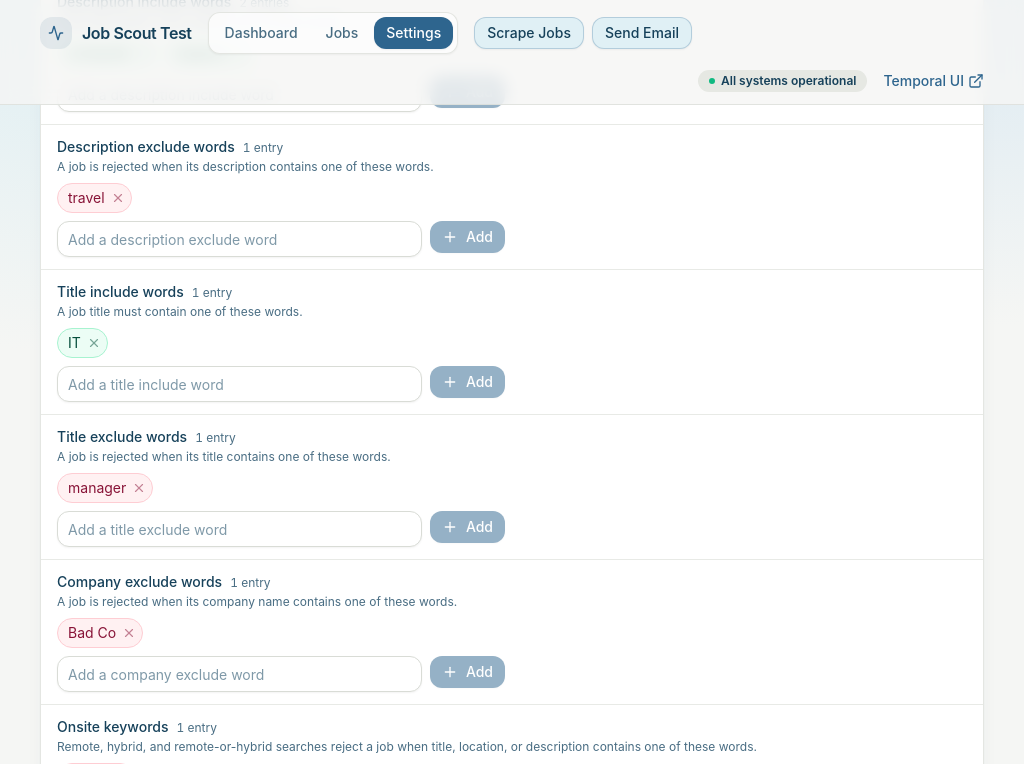
Test: operator shell › clears dirty state from echoed stored row after save
(page scrolled)
Type "  Cloud Ops  " into the field named "Add title include word". click: (239, 384)
box: [57,366,422,402]
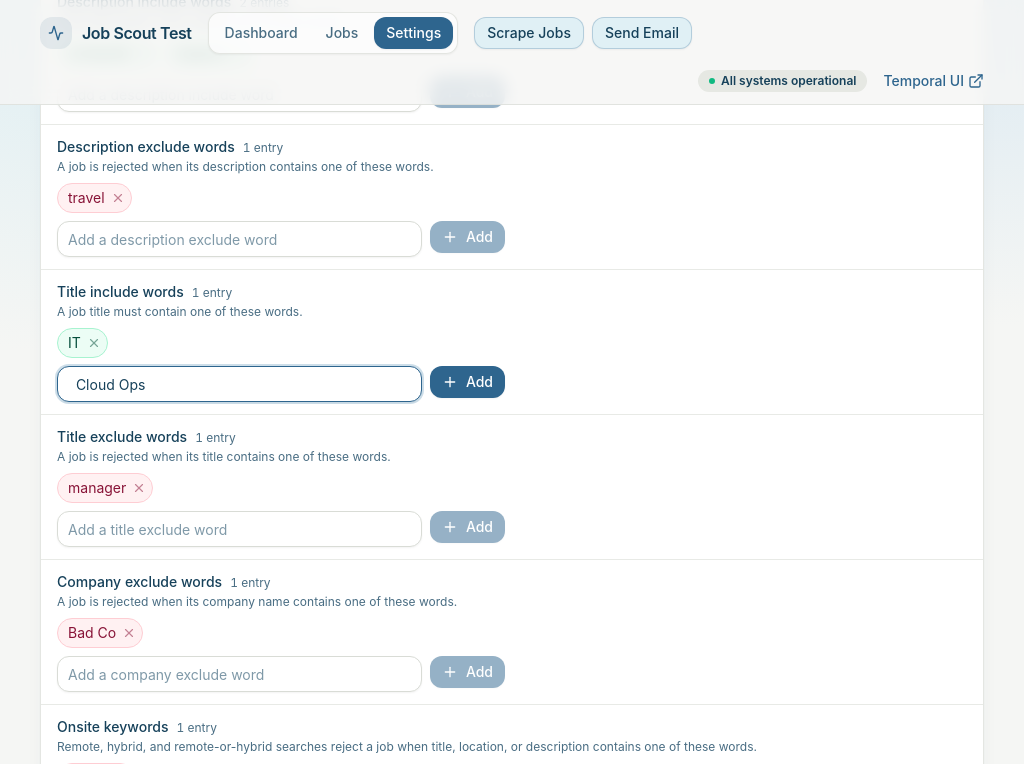
Click the button named "Add title include word". click: (467, 382)
box: [430,366,505,398]
(page scrolled)
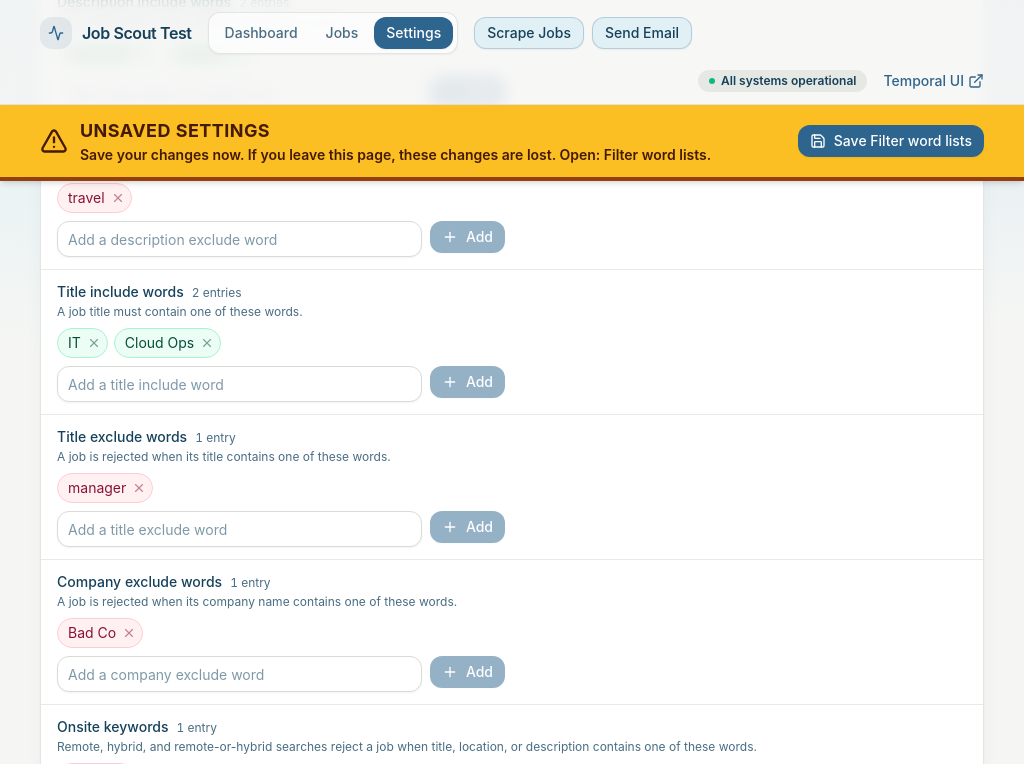
Type "cloud ops" into the field named "Add title include word". click: (239, 384)
box: [57,366,422,402]
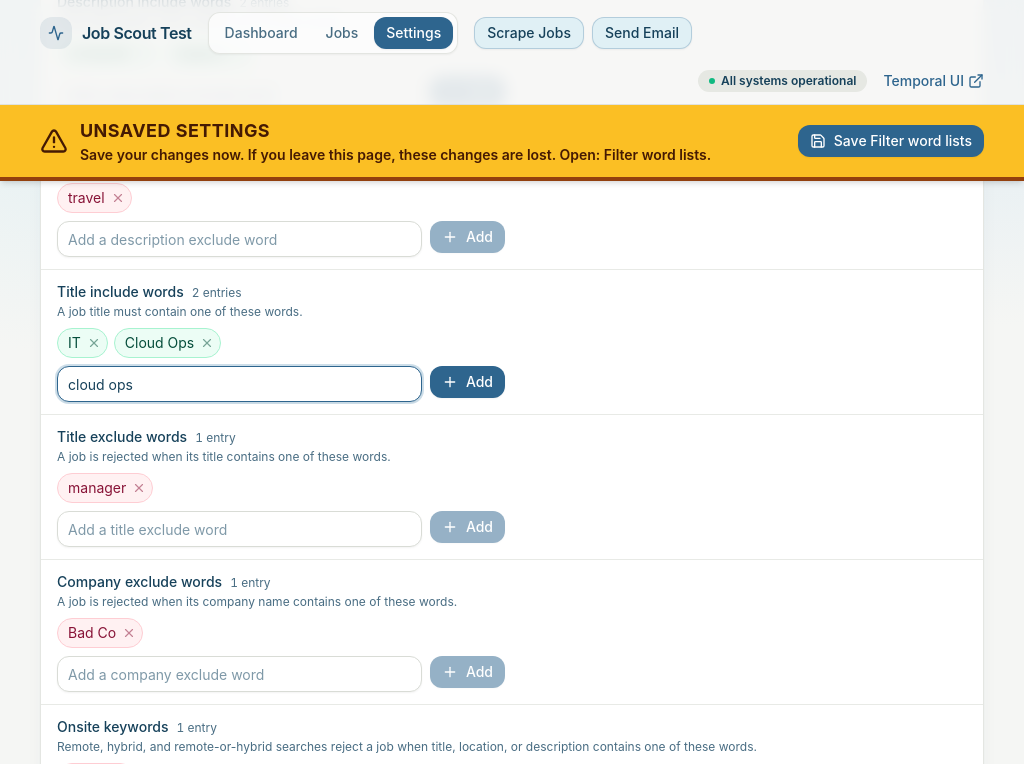
Click the button named "Add title include word". click: (467, 382)
box: [430,366,505,398]
(page scrolled)
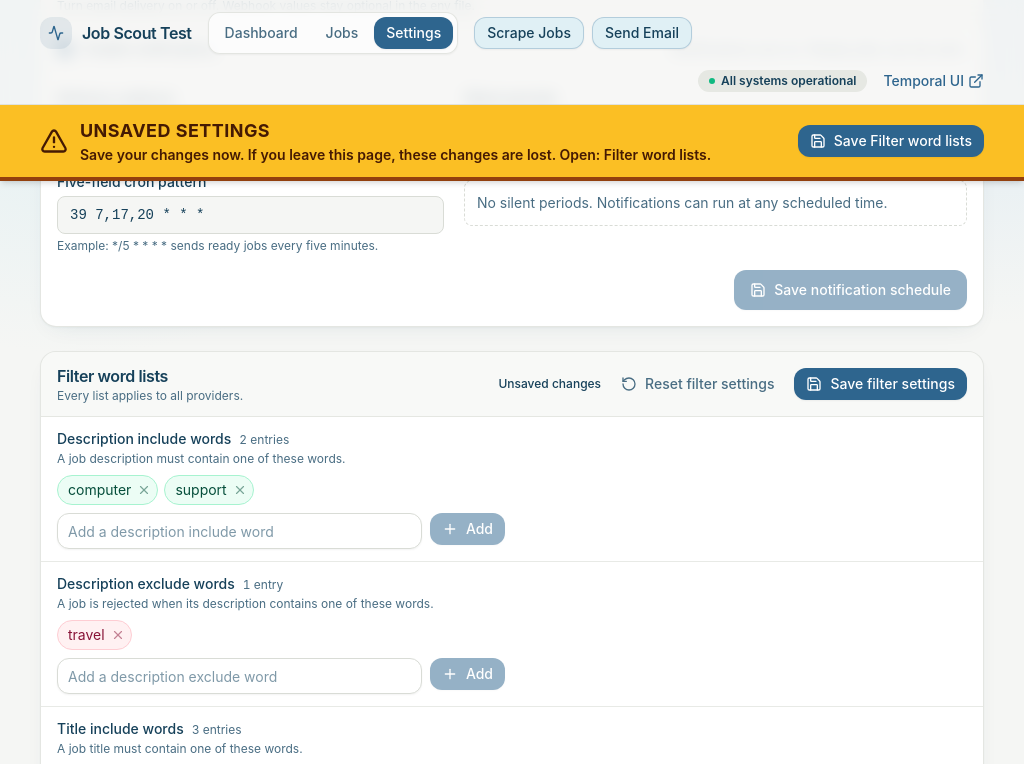
Check: the button "Save filter settings" is enabled
Click the button "Save filter settings". click: (881, 384)
box: [794,368,967,400]
(page scrolled)
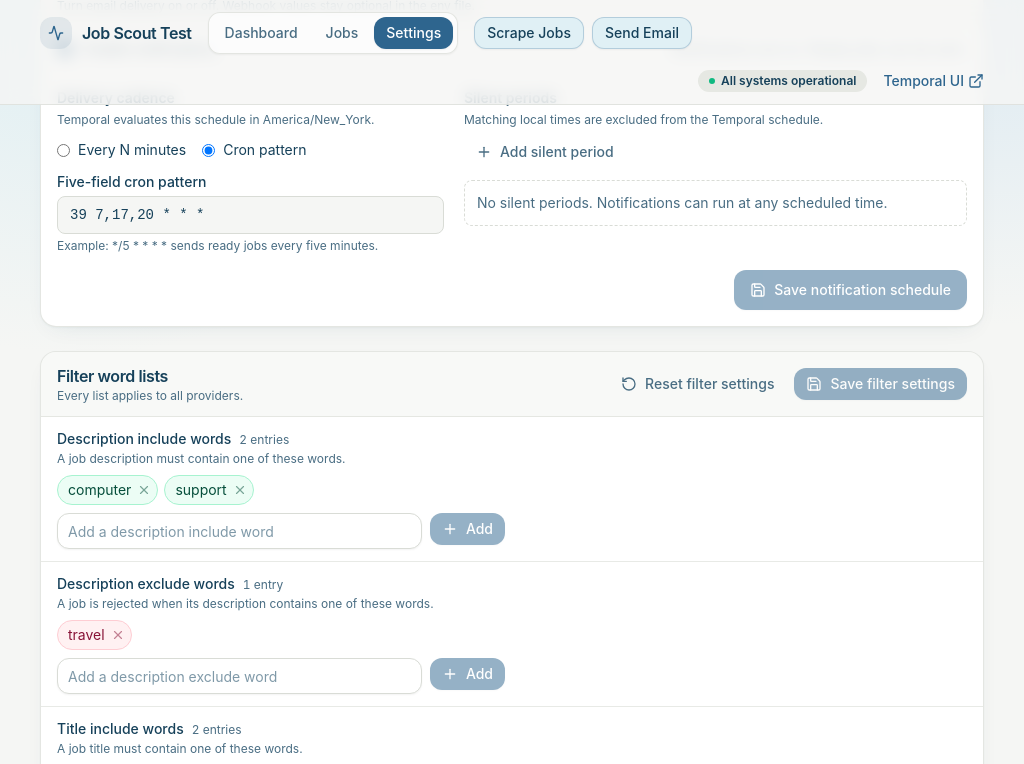
Check: the button "Save filter settings" is disabled, box [794,368,967,400]
